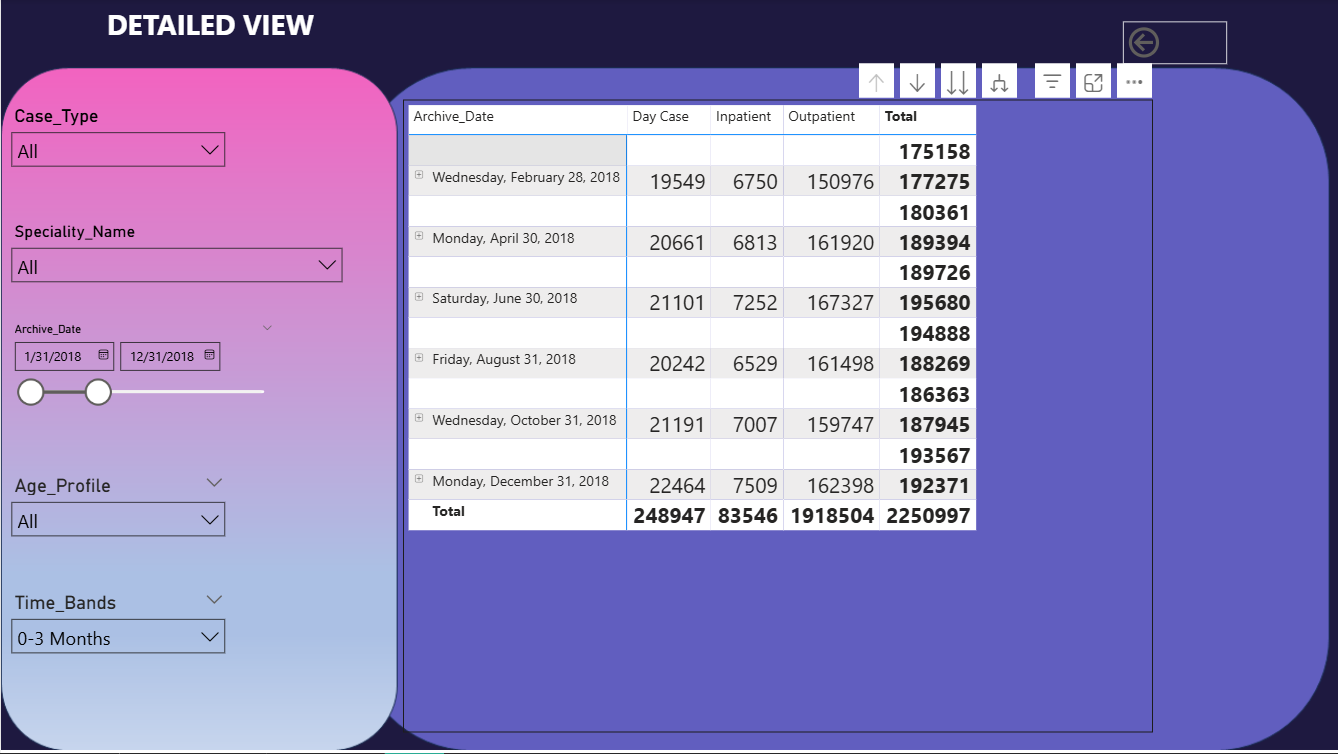

The page's visual inventory and layout, read from the dashboard file:
{"tool":"powerbi","page":{"name":"DETAIL","canvas":[1280,720],"ordinal":1},"visuals":[{"type":"slicer","fields":{"Values":["All_Data.Speciality_Name"]},"box":[0,208,336,80],"z":0},{"type":"slicer","fields":{"Values":["All_Data.Archive_Date"]},"box":[0,304,272,112],"z":1000},{"type":"slicer","fields":{"Values":["All_Data.Case_Type"]},"box":[0,96,224,96],"z":2000},{"type":"textbox","box":[0,0,400,80],"z":3000},{"type":"slicer","fields":{"Values":["All_Data.Age_Profile"]},"box":[0,448,224,96],"z":4000},{"type":"slicer","fields":{"Values":["All_Data.Time_Bands"]},"box":[0,560,224,96],"z":5000},{"type":"pivotTable","fields":{"Rows":["All_Data.Archive_Date","All_Data.Specialty_Name","All_Data.Age_Profile","All_Data.Time_Bands"],"Columns":["All_Data.Case_Type"],"Values":["Sum(All_Data.Total)"]},"box":[383.9,96,715.7,605.1],"z":6000},{"type":"actionButton","box":[1071.9,21.1,99.2,40.7],"z":6001}]}

Visuals, with their boxes in screenshot pixels (x1, y1, x2, y2), scaled from the page's 1280x720 canvas onto the 1338x754 screenshot:
slicer - All_Data.Speciality_Name: (x1=0, y1=218, x2=351, y2=302)
slicer - All_Data.Archive_Date: (x1=0, y1=318, x2=284, y2=436)
slicer - All_Data.Case_Type: (x1=0, y1=101, x2=234, y2=201)
textbox: (x1=0, y1=0, x2=418, y2=84)
slicer - All_Data.Age_Profile: (x1=0, y1=469, x2=234, y2=570)
slicer - All_Data.Time_Bands: (x1=0, y1=586, x2=234, y2=687)
pivotTable - All_Data.Archive_Date x All_Data.Specialty_Name: (x1=401, y1=101, x2=1149, y2=734)
actionButton: (x1=1120, y1=22, x2=1224, y2=65)
